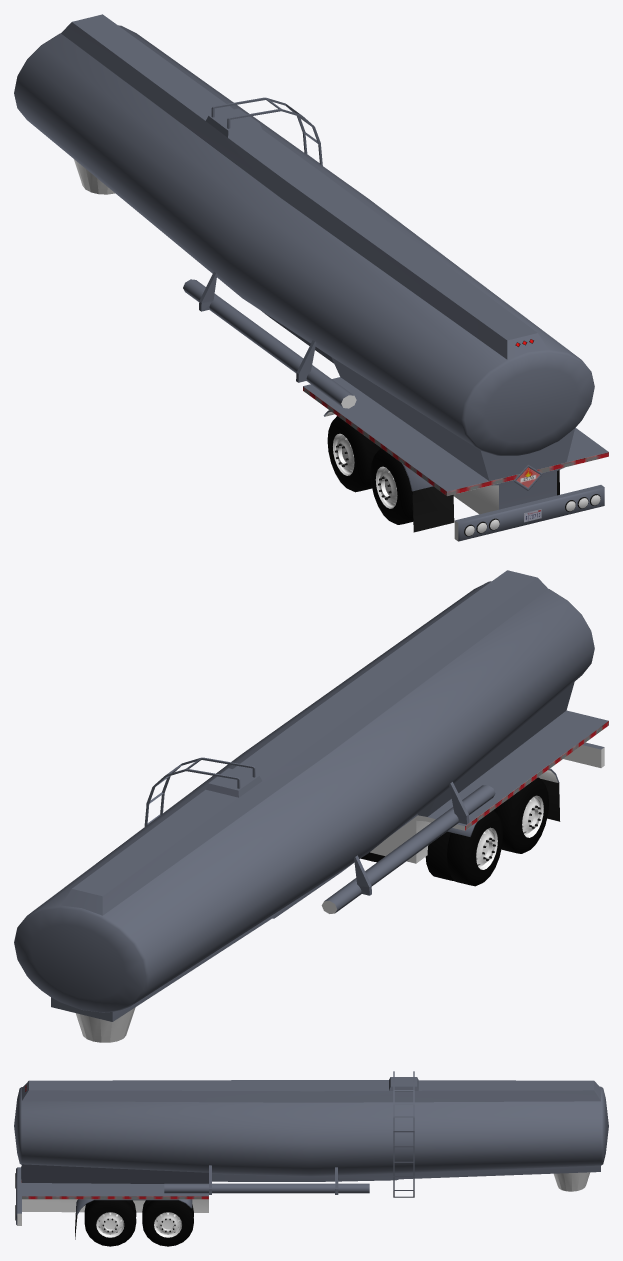
Rendered from va_semitruck_00_tanker.glb.
3 views of the same model, one above another, from view 1: azimuth 30°, elevation 25°; view 2: azimuth 150°, elevation 25°; view 3: azimuth 270°, elevation 25° (orthographic). The views are drawn at different scales.
Parts seen in each view (by area): view 1: va_semitruck_00_tanker/resources/vehicle/va_semitruck_00_tan (×4); view 2: va_semitruck_00_tanker/resources/vehicle/va_semitruck_00_tan (×5); view 3: va_semitruck_00_tanker/resources/vehicle/va_semitruck_00_tan (×5).
Part boxes in pixels (left/top/right/bottom): va_semitruck_00_tanker/resources/vehicle/va_semitruck_00_tan (×4): left=14, top=14, right=608, bottom=541; va_semitruck_00_tanker/resources/vehicle/va_semitruck_00_tan (×5): left=14, top=570, right=608, bottom=1042; va_semitruck_00_tanker/resources/vehicle/va_semitruck_00_tan (×5): left=14, top=1071, right=608, bottom=1246.
Bounding box in the file's own units: 2.9 × 3.74 × 13.46.
9 materials, 6 textured.
